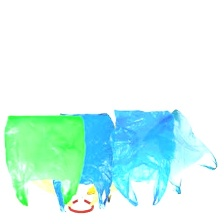plastic_bag: (0, 113, 85, 209), (108, 100, 177, 216), (50, 110, 116, 214), (152, 103, 219, 200)
